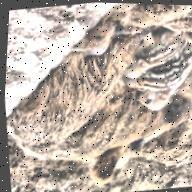boar: (1, 0, 192, 188), (129, 73, 192, 115)
